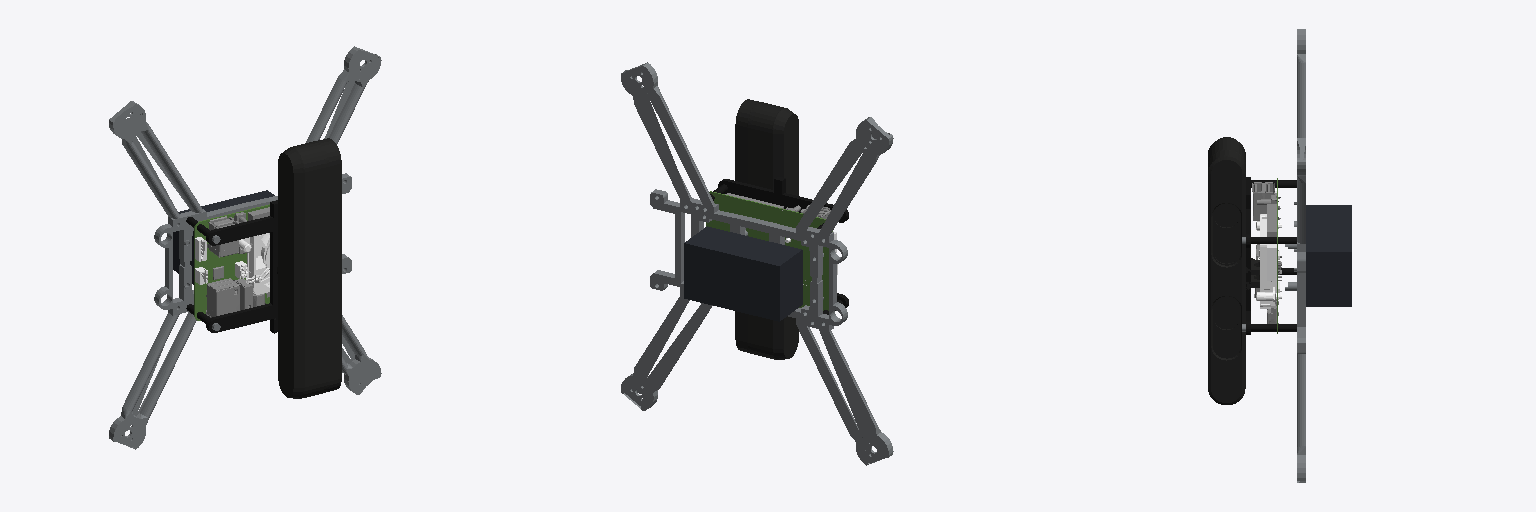
The model's file is link_marvin_body.obj.
The picture shows the model from 3 angles: view 1: azimuth 30°, elevation 25°; view 2: azimuth 150°, elevation 25°; view 3: azimuth 270°, elevation 25°; orthographic projection.
Parts seen in each view (by area): view 1: Mesh183 skpB1A7_1 Model, Mesh2 arm_fl_br2 Model, Mesh4 arm_fr_bl2 Model, Mesh188 base_1_1 Model, Mesh182 mount_rgbd1 Model, Mesh1 arm_fl_br1 Model, Mesh3 arm_fr_bl1 Model, Mesh9 xu4_simplified_stl1 Model, Mesh189 battery1 Model, Mesh48 xu4_simplified_stl1 Model, Mesh167 xu4_simplified_stl1 Model; view 2: Mesh189 battery1 Model, Mesh183 skpB1A7_1 Model, Mesh188 base_1_1 Model, Mesh2 arm_fl_br2 Model, Mesh1 arm_fl_br1 Model, Mesh4 arm_fr_bl2 Model, Mesh3 arm_fr_bl1 Model, Mesh9 xu4_simplified_stl1 Model, Mesh182 mount_rgbd1 Model; view 3: Mesh183 skpB1A7_1 Model, Mesh189 battery1 Model, Mesh188 base_1_1 Model, Mesh3 arm_fr_bl1 Model, Mesh4 arm_fr_bl2 Model, Mesh1 arm_fl_br1 Model, Mesh182 mount_rgbd1 Model.
Boxes of the visible parts, x1,y1,x2,y2 form: Mesh183 skpB1A7_1 Model: [277, 138, 341, 398]; Mesh2 arm_fl_br2 Model: [109, 312, 196, 449]; Mesh4 arm_fr_bl2 Model: [109, 101, 202, 218]; Mesh188 base_1_1 Model: [154, 173, 351, 315]; Mesh182 mount_rgbd1 Model: [206, 200, 277, 333]; Mesh1 arm_fl_br1 Model: [306, 46, 381, 143]; Mesh3 arm_fr_bl1 Model: [342, 315, 381, 394]; Mesh9 xu4_simplified_stl1 Model: [194, 204, 269, 320]; Mesh189 battery1 Model: [173, 190, 274, 284]; Mesh48 xu4_simplified_stl1 Model: [206, 280, 239, 317]; Mesh167 xu4_simplified_stl1 Model: [244, 234, 269, 294]; Mesh189 battery1 Model: [684, 226, 802, 321]; Mesh183 skpB1A7_1 Model: [735, 99, 798, 359]; Mesh188 base_1_1 Model: [650, 189, 847, 331]; Mesh2 arm_fl_br2 Model: [796, 324, 893, 465]; Mesh1 arm_fl_br1 Model: [621, 62, 714, 207]; Mesh4 arm_fr_bl2 Model: [796, 117, 893, 235]; Mesh3 arm_fr_bl1 Model: [621, 295, 712, 410]; Mesh9 xu4_simplified_stl1 Model: [706, 191, 832, 310]; Mesh182 mount_rgbd1 Model: [718, 177, 848, 307]; Mesh183 skpB1A7_1 Model: [1208, 137, 1259, 404]; Mesh189 battery1 Model: [1306, 205, 1351, 306]; Mesh188 base_1_1 Model: [1285, 202, 1305, 353]; Mesh3 arm_fr_bl1 Model: [1297, 354, 1305, 482]; Mesh4 arm_fr_bl2 Model: [1297, 29, 1305, 137]; Mesh1 arm_fl_br1 Model: [1297, 138, 1305, 243]; Mesh182 mount_rgbd1 Model: [1246, 177, 1250, 334].
Bounding box in the file's own units: 0.2025 × 0.2489 × 0.0945.